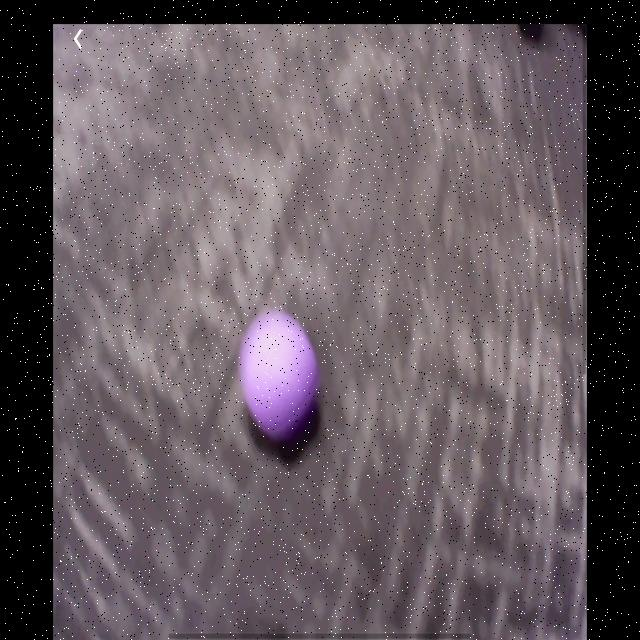ball: (242, 311, 320, 436)
